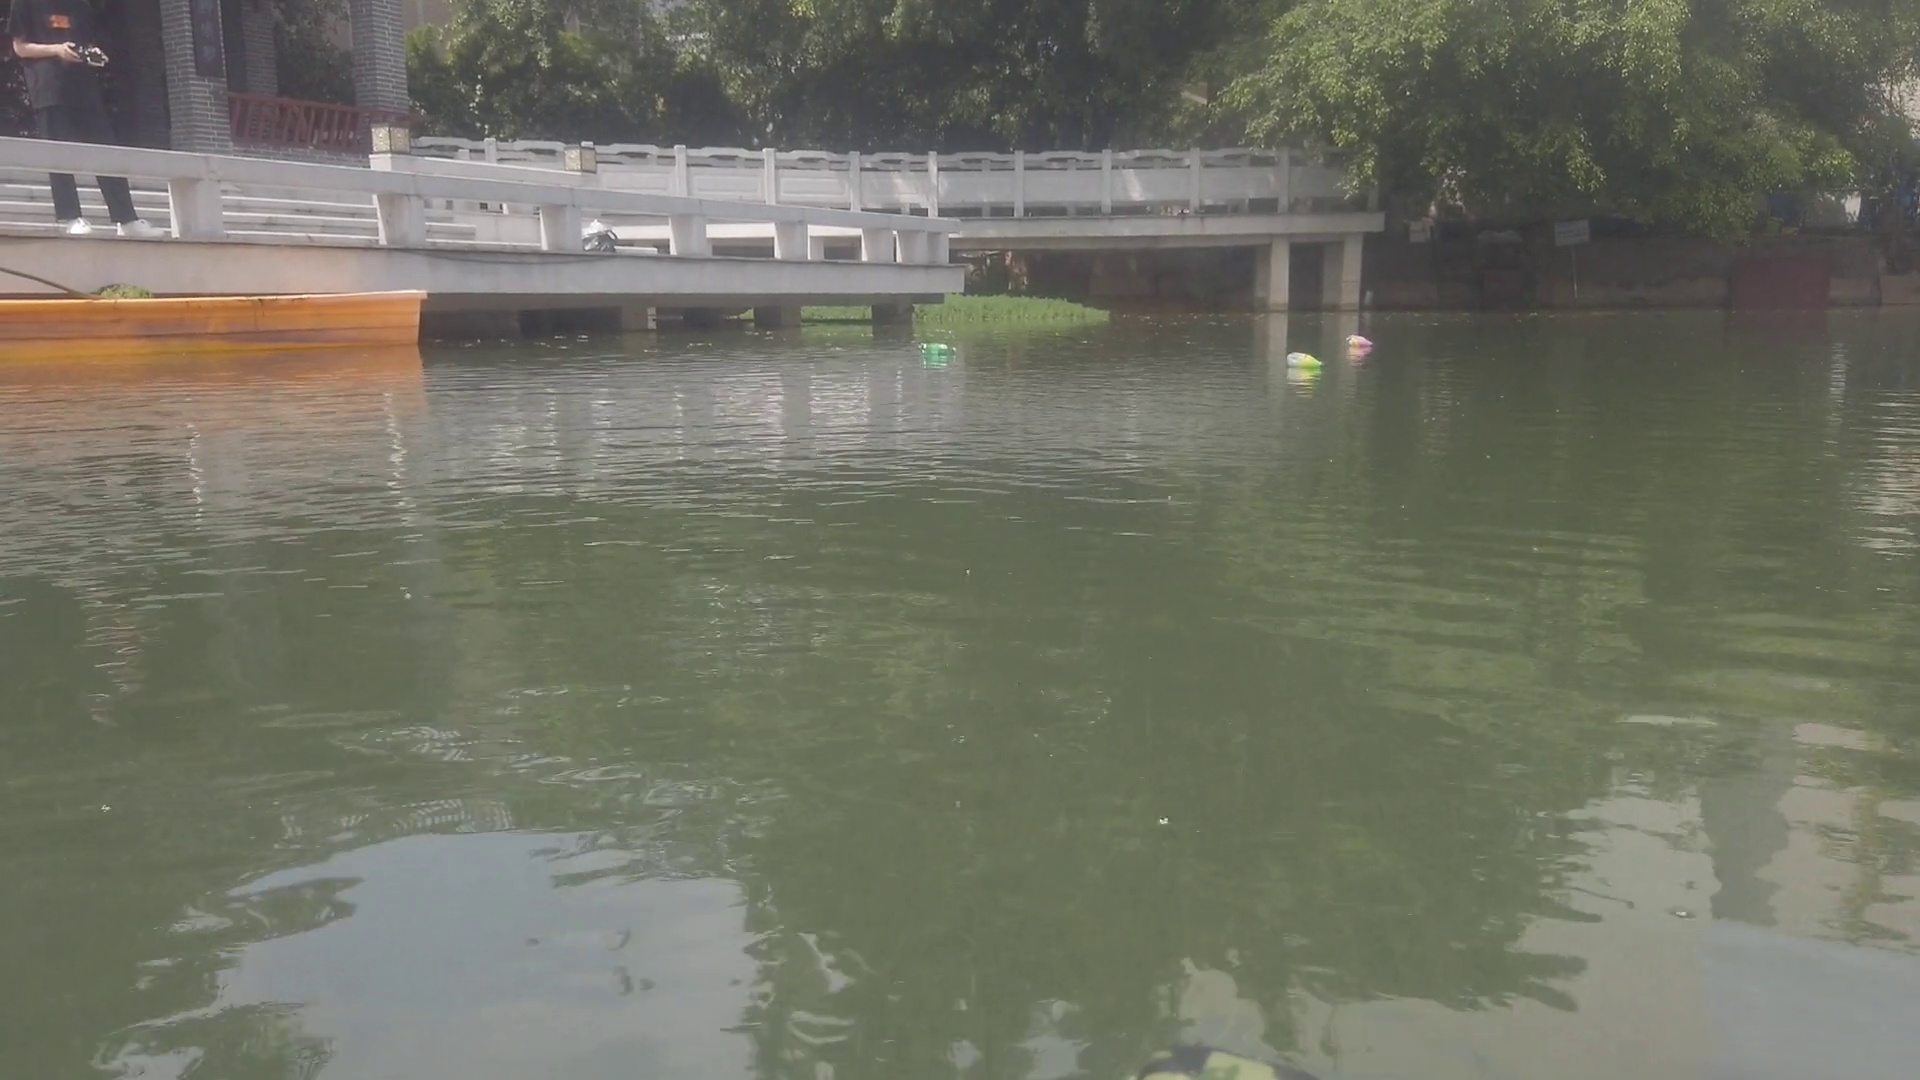bottle: (1283, 349, 1327, 371), (1341, 330, 1375, 349), (918, 340, 956, 357)
